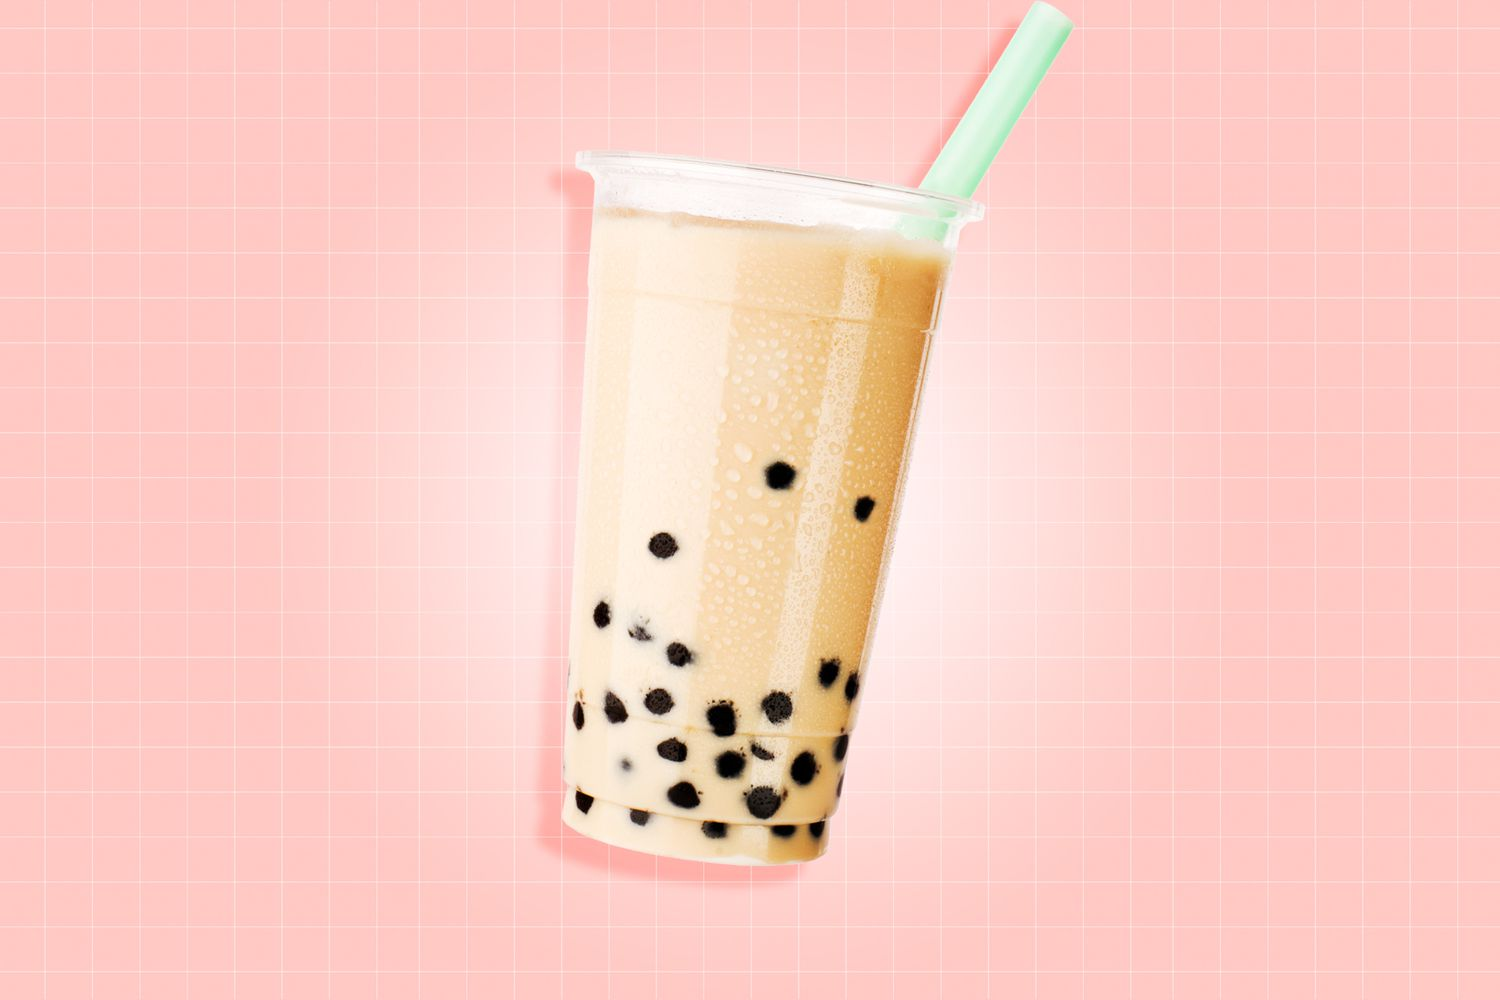boba: (746, 786, 782, 818), (790, 750, 818, 785), (765, 460, 796, 490), (765, 692, 794, 724), (667, 781, 701, 809), (708, 706, 739, 735), (648, 530, 679, 559), (715, 750, 746, 779), (644, 689, 676, 715), (604, 692, 628, 725), (658, 735, 687, 763), (853, 494, 875, 522), (592, 600, 613, 629), (701, 817, 730, 838), (819, 658, 840, 686), (751, 738, 775, 761), (666, 644, 691, 666), (575, 789, 595, 812), (772, 823, 799, 839), (846, 673, 862, 701), (808, 816, 826, 839), (834, 735, 850, 760), (570, 702, 585, 730), (627, 623, 651, 640), (629, 808, 648, 825), (619, 758, 632, 773)
